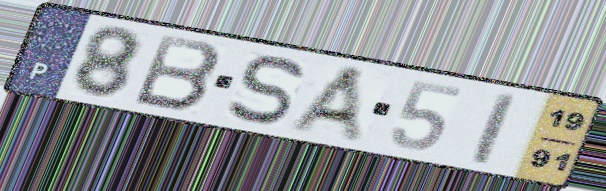5: (387, 78, 467, 152)
8: (67, 24, 146, 101)
A: (284, 64, 370, 147)
B: (129, 32, 225, 114)
I: (469, 89, 520, 168)
S: (223, 54, 308, 128)
